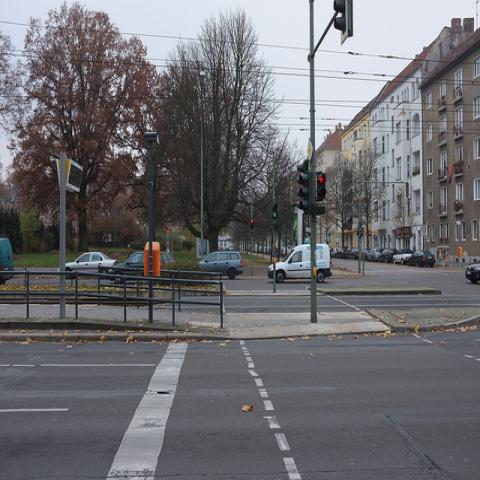car: (199, 251, 243, 280), (64, 253, 118, 270), (114, 253, 144, 280), (407, 250, 435, 269), (160, 251, 178, 269), (465, 262, 479, 285), (393, 249, 413, 265), (366, 249, 385, 262), (348, 248, 358, 259)
truck: (268, 243, 333, 282), (0, 238, 15, 272)
